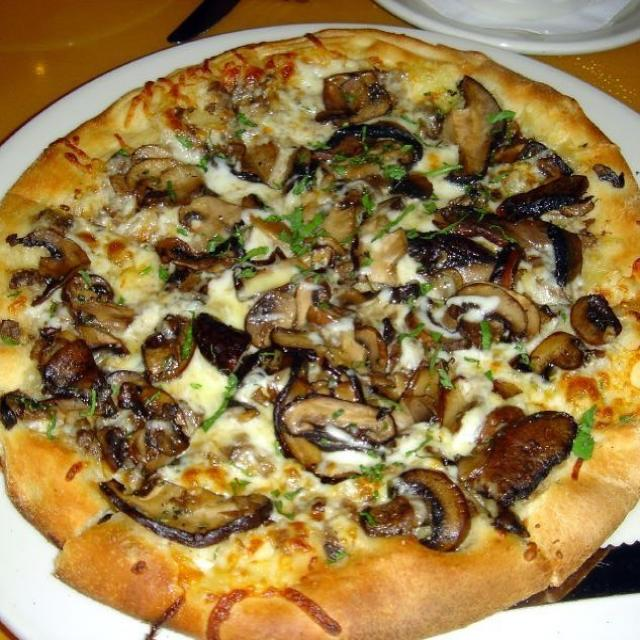mushrooms: (407, 192, 590, 290), (272, 350, 399, 484), (283, 118, 436, 212), (256, 196, 408, 286), (310, 280, 491, 354), (98, 474, 275, 547), (459, 400, 577, 505), (438, 76, 544, 184), (85, 374, 194, 472), (358, 466, 472, 559), (23, 316, 125, 400), (359, 351, 462, 427), (443, 277, 557, 345), (232, 264, 320, 351), (479, 167, 597, 225), (116, 141, 207, 209), (15, 222, 100, 288), (316, 66, 392, 129), (134, 311, 196, 384), (155, 227, 240, 279), (206, 133, 282, 190), (193, 308, 252, 374), (68, 274, 134, 331), (173, 192, 244, 242), (526, 323, 590, 378), (566, 286, 623, 344), (470, 495, 539, 541), (0, 382, 57, 431), (518, 134, 576, 181), (582, 160, 627, 191), (489, 372, 525, 402)
pizza: (0, 29, 640, 638)
